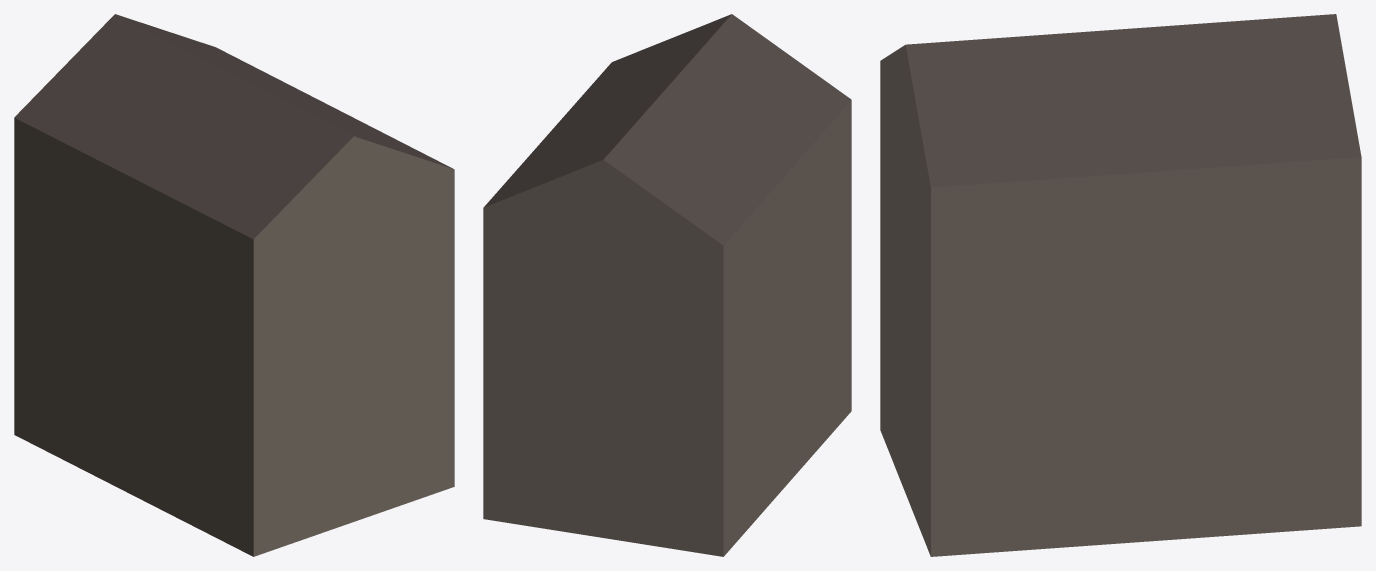
The picture shows the model from 3 angles, left to right: view 1: azimuth 30°, elevation 25°; view 2: azimuth 150°, elevation 25°; view 3: azimuth 270°, elevation 25°; orthographic projection. The views are drawn at different scales.
Parts seen in each view (by area): view 1: HP-w1424106442; view 2: HP-w1424106442; view 3: HP-w1424106442.
Part boxes in pixels (x1,y1,x2,y2): HP-w1424106442: (14,14,454,556); HP-w1424106442: (483,14,851,556); HP-w1424106442: (880,14,1361,556).
Size of the model in its own units: 5.49 by 7.29 by 7.08.
